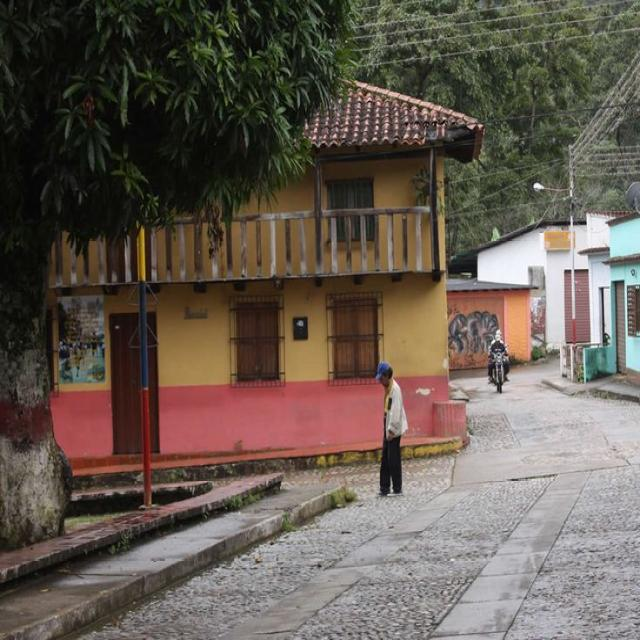Fachada: (45, 83, 482, 458), (477, 223, 589, 347), (584, 183, 639, 384), (448, 279, 530, 372), (578, 210, 625, 343)
Poste: (533, 146, 575, 343), (138, 230, 151, 508)
